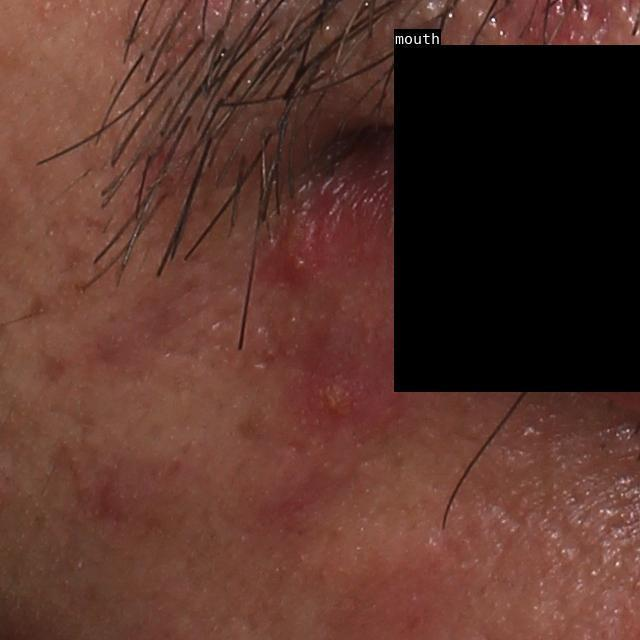papule: (267, 230, 335, 298), (307, 379, 366, 429)
